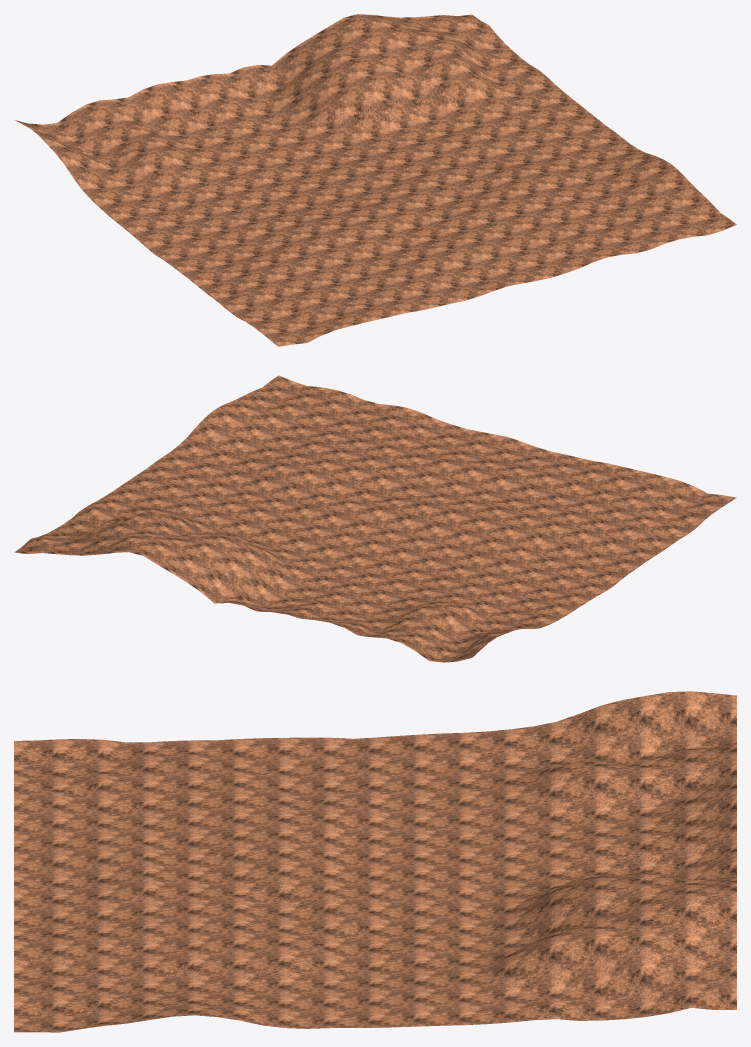
Rendered from terrain_04_02.dae.
The picture shows the model from 3 angles, top to bottom: view 1: azimuth 30°, elevation 25°; view 2: azimuth 150°, elevation 25°; view 3: azimuth 270°, elevation 25°; orthographic projection. The views are drawn at different scales.
Visible parts, largest first — view 1: terrain_04_02-node; view 2: terrain_04_02-node; view 3: terrain_04_02-node.
Boxes of the visible parts, x1=… form: terrain_04_02-node: x1=15, y1=14, x2=736, y2=346; terrain_04_02-node: x1=14, y1=375, x2=736, y2=662; terrain_04_02-node: x1=14, y1=691, x2=736, y2=1032.
Bounding box in the file's own units: 128 × 128 × 15.67.
Materials: 1 (1 with a texture image).
